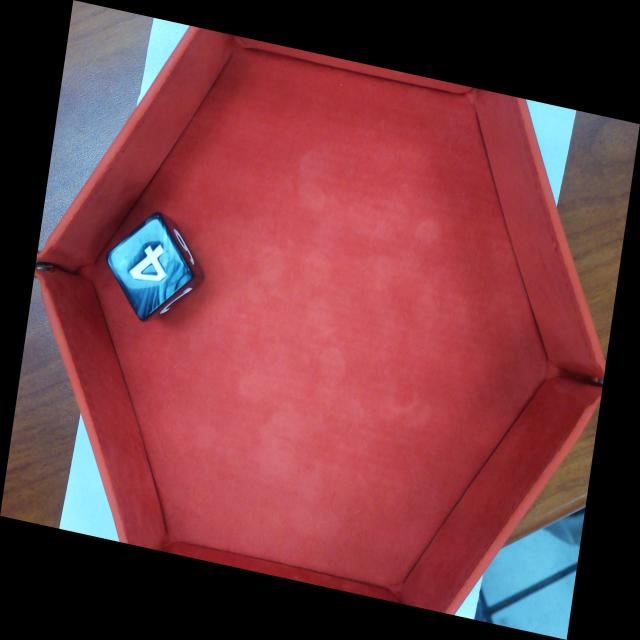dice: (106, 215, 194, 320)
